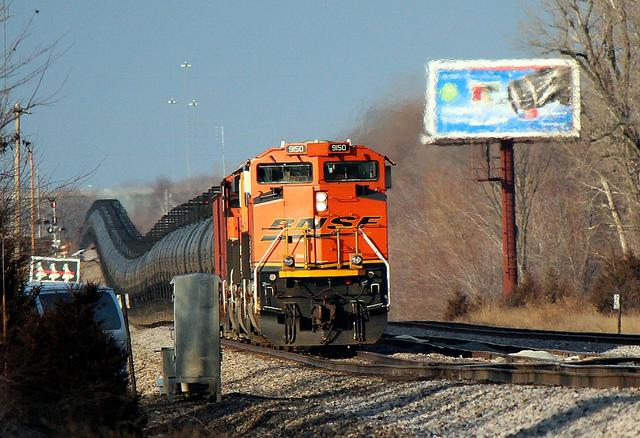Train: (79, 142, 396, 347)
